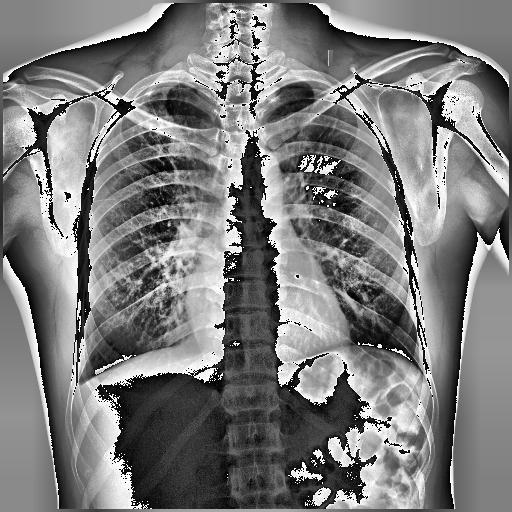10- Pleural effusion: (75, 371, 89, 395)
11- Pleural thickening: (140, 82, 188, 105), (280, 81, 338, 90), (315, 82, 341, 96), (75, 371, 89, 395)
13- Pulmonary fibrosis: (132, 96, 194, 177), (310, 120, 349, 168), (140, 90, 164, 126)
6- Infiltration: (373, 282, 406, 332), (96, 264, 126, 302)
7- Lung Opacity: (373, 282, 406, 332), (96, 264, 126, 302)
9- Other lesion: (123, 96, 196, 184)
